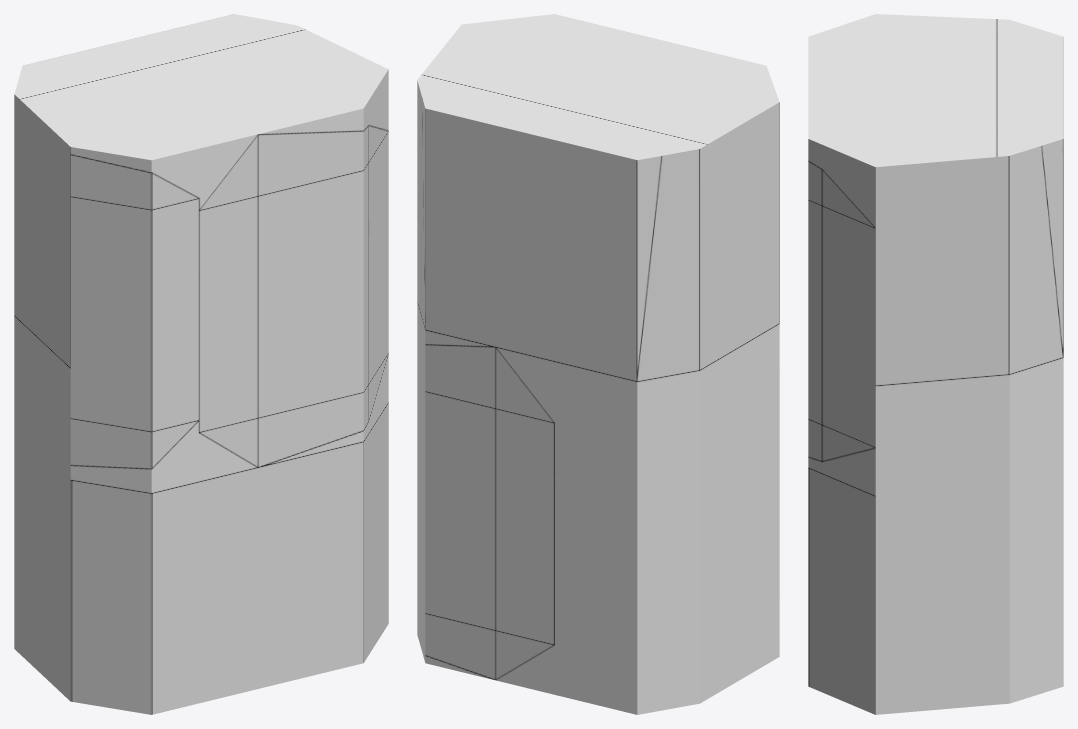
File: custom_left_leg.obj
The picture shows the model from 3 angles, left to right: view 1: azimuth 30°, elevation 25°; view 2: azimuth 150°, elevation 25°; view 3: azimuth 270°, elevation 25°; orthographic projection.
Parts seen in each view (by area): view 1: Cube_Cube.000; view 2: Cube_Cube.000; view 3: Cube_Cube.000.
Boxes of the visible parts, x1,y1,x2,y2 form: Cube_Cube.000: [14, 14, 388, 714]; Cube_Cube.000: [417, 14, 779, 714]; Cube_Cube.000: [808, 14, 1063, 714].
Size of the model in its own units: 5.4 by 9 by 3.8.
